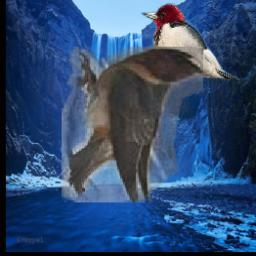Swallow: (63, 48, 204, 203)
Woodpecker: (141, 3, 240, 80)
